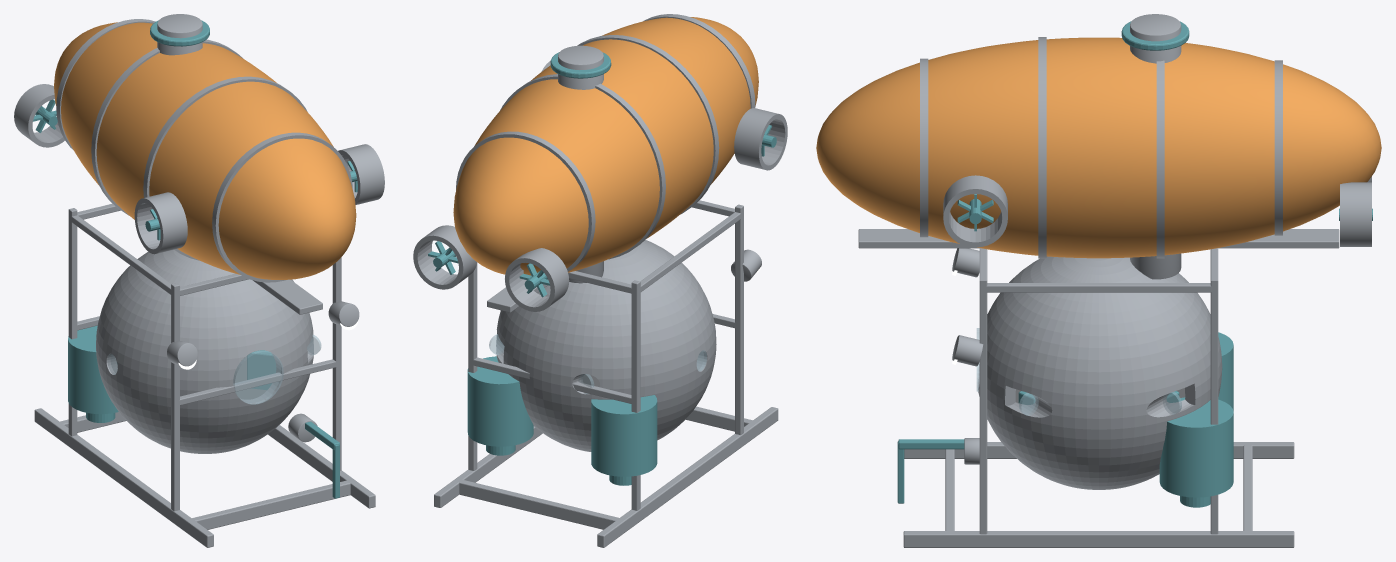
Rendered from bathyscaphe.glb.
The picture shows the model from 3 angles, left to right: view 1: azimuth 30°, elevation 25°; view 2: azimuth 150°, elevation 25°; view 3: azimuth 270°, elevation 25°; orthographic projection. The views are drawn at different scales.
Visible parts, largest first — view 1: Float_Hull, Gondola_Hull, Cage, Skids, Float_Ribs, Ballast_L, Thruster_SL_Duct, Viewport_Main, Thruster_SR_Duct, Thruster_ML_Duct, Hatch_Trunk, Floodlight_Housing (+5 smaller); view 2: Float_Hull, Gondola_Hull, Cage, Skids, Float_Ribs, Ballast_L, Ballast_R, Thruster_SL_Duct, Thruster_ML_Duct, Thruster_MR_Duct, Hatch_Trunk, Hatch_Lid (+3 smaller); view 3: Float_Hull, Gondola_Hull, Skids, Cage, Float_Ribs, Ballast_R, Hatch_Trunk, Thruster_SR_Duct, Thruster_MR_Duct, Floodlight_Housing, Ballast_L, Hatch_Lid (+1 smaller).
Part boxes in pixels (x1,y1,x2,y2): Float_Hull: [54, 22, 356, 279]; Gondola_Hull: [96, 249, 313, 453]; Cage: [68, 203, 341, 511]; Skids: [34, 408, 375, 547]; Float_Ribs: [56, 19, 352, 282]; Ballast_L: [68, 325, 118, 422]; Thruster_SL_Duct: [134, 192, 187, 254]; Viewport_Main: [233, 350, 283, 404]; Thruster_SR_Duct: [338, 144, 384, 204]; Thruster_ML_Duct: [14, 84, 64, 147]; Hatch_Trunk: [157, 14, 202, 55]; Floodlight_Housing: [167, 301, 359, 366]; Float_Hull: [453, 17, 758, 275]; Gondola_Hull: [496, 240, 716, 451]; Cage: [468, 200, 743, 510]; Skids: [434, 406, 778, 547]; Float_Ribs: [456, 14, 755, 279]; Ballast_L: [591, 395, 657, 485]; Ballast_R: [467, 356, 533, 455]; Thruster_SL_Duct: [734, 108, 787, 170]; Thruster_ML_Duct: [505, 248, 569, 311]; Thruster_MR_Duct: [413, 225, 477, 289]; Hatch_Trunk: [558, 45, 603, 283]; Hatch_Lid: [550, 52, 611, 78]; Float_Hull: [816, 37, 1381, 258]; Gondola_Hull: [978, 256, 1222, 489]; Skids: [903, 442, 1294, 547]; Cage: [858, 229, 1339, 534]; Float_Ribs: [920, 37, 1282, 258]; Ballast_R: [1159, 397, 1233, 507]; Hatch_Trunk: [1130, 14, 1181, 279]; Thruster_SR_Duct: [943, 175, 1007, 247]; Thruster_MR_Duct: [1340, 182, 1371, 246]; Floodlight_Housing: [952, 248, 983, 366]; Ballast_L: [1218, 332, 1233, 411]; Hatch_Lid: [1121, 21, 1189, 50].
Size of the model in its own units: 5.66 by 10.25 by 11.
